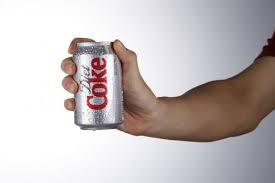can: (72, 42, 124, 131)
